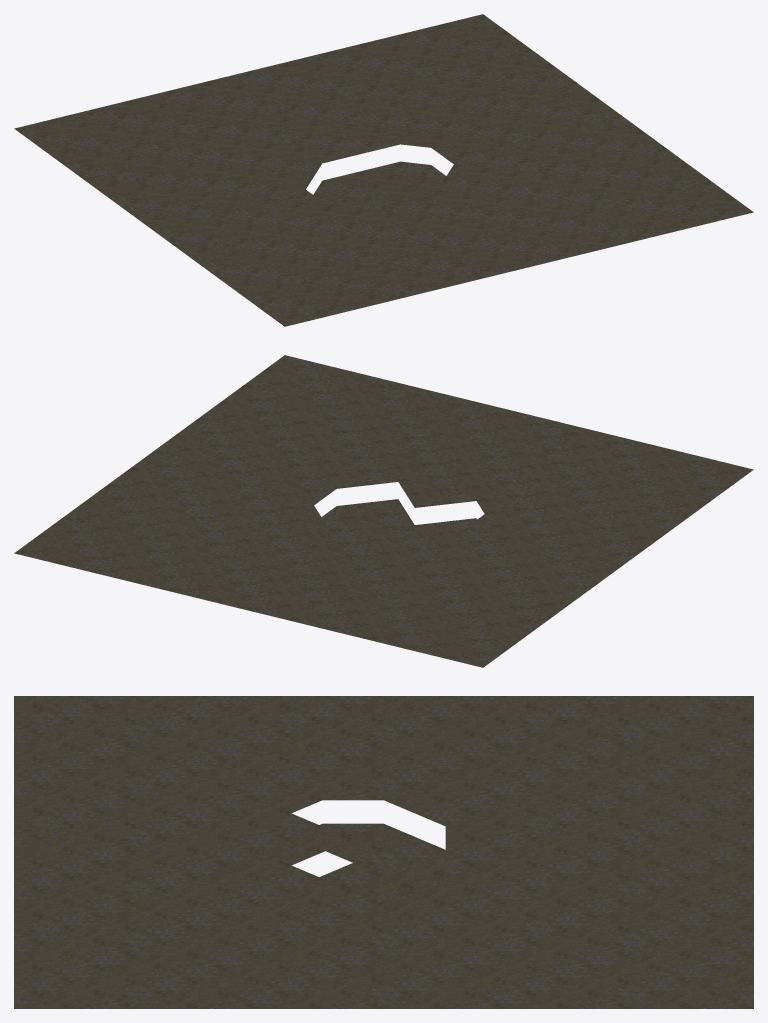
File: oTerrainGroundMap02D.FBX
The picture shows the model from 3 angles, top to bottom: view 1: azimuth 30°, elevation 25°; view 2: azimuth 150°, elevation 25°; view 3: azimuth 270°, elevation 25°; orthographic projection. The views are drawn at different scales.
Parts seen in each view (by area): view 1: oTerrainGroundMap02D; view 2: oTerrainGroundMap02D; view 3: oTerrainGroundMap02D.
Part boxes in pixels (<box>): oTerrainGroundMap02D: <box>14,14,753,326</box>; oTerrainGroundMap02D: <box>14,355,753,667</box>; oTerrainGroundMap02D: <box>14,696,753,1008</box>.
Size of the model in its own units: 1127 by 39.37 by 1127.
